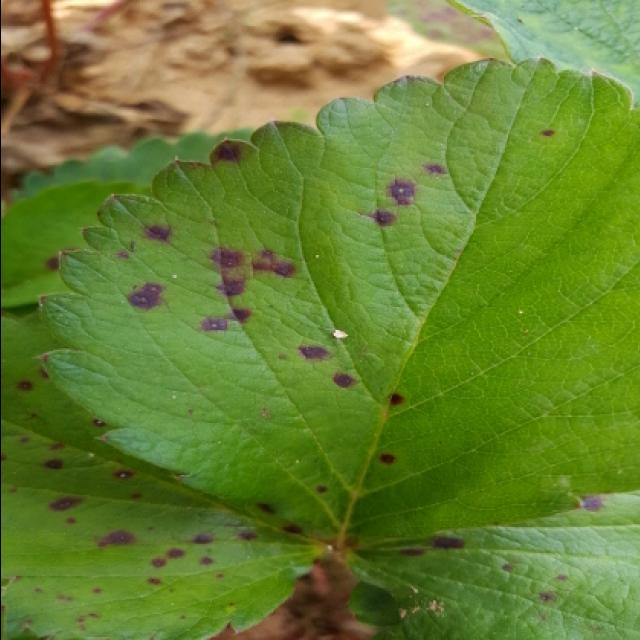Leaf Spot: (36, 53, 640, 551), (2, 304, 312, 640), (349, 490, 640, 640), (2, 173, 148, 305)
